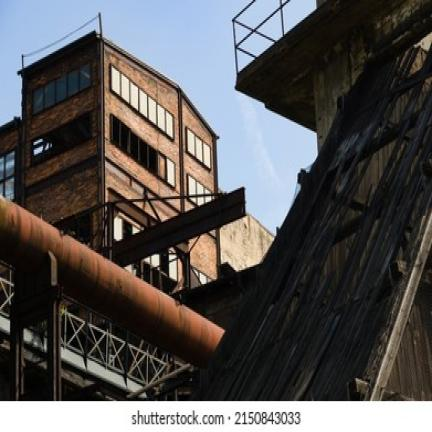karat: (0, 201, 228, 365)
